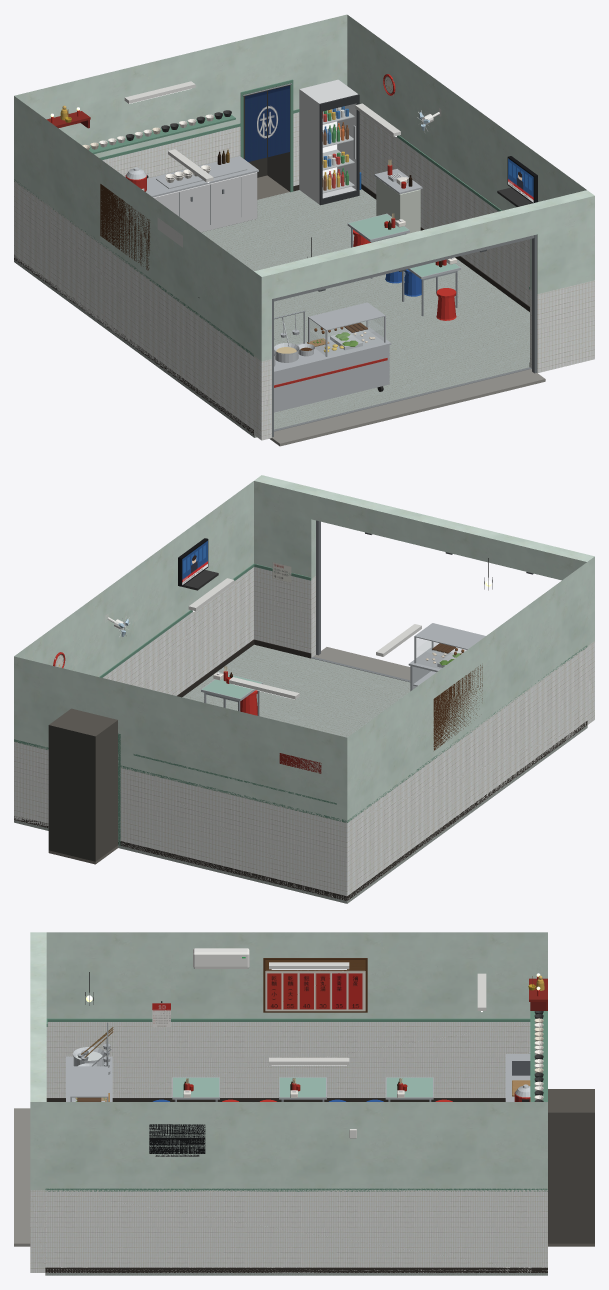
Rendered from wz_lin_interior.glb.
3 renders of one model, top to bottom at view 1: azimuth 30°, elevation 25°; view 2: azimuth 150°, elevation 25°; view 3: azimuth 270°, elevation 25°, orthographic. The views are drawn at different scales.
Visible parts, largest first — view 1: wz_lin_floorm, WALL_W_wall, WALL_N_wall, WALL_W_wain, wz_lin_props, WALL_S_wall, WALL_E_wall, WALL_E_wain, wz_lin_steelparts, wz_lin_metal, WALL_S_wain, WALL_S_trim (+9 smaller); view 2: WALL_N_wall, WALL_N_wain, WALL_W_wall, WALL_W_wain, WALL_S_wall, WALL_E_wall, wz_lin_floorm, WALL_N_passage, WALL_E_wain, WALL_S_wain, WALL_W_trim, WALL_N_trim (+8 smaller); view 3: WALL_E_wall, WALL_E_wain, WALL_W_wall, WALL_W_wain, WALL_N_passage, WALL_E_trim, wz_lin_props, WALL_W_trim, WALL_W_menu, WALL_S_wall, wz_lin_metal, WALL_S_trim (+5 smaller).
Boxes of the visible parts, left/top/right/bottom form: wz_lin_floorm: left=14, top=189, right=529, bottom=437; WALL_W_wall: left=14, top=96, right=254, bottom=355; WALL_N_wall: left=14, top=14, right=347, bottom=157; WALL_W_wain: left=14, top=180, right=253, bottom=433; wz_lin_props: left=124, top=79, right=459, bottom=391; WALL_S_wall: left=254, top=190, right=594, bottom=361; WALL_E_wall: left=347, top=15, right=586, bottom=210; WALL_E_wain: left=359, top=112, right=529, bottom=306; wz_lin_steelparts: left=146, top=156, right=422, bottom=412; wz_lin_metal: left=156, top=94, right=460, bottom=366; WALL_S_wain: left=254, top=280, right=594, bottom=440; WALL_S_trim: left=253, top=286, right=545, bottom=446; WALL_N_wall: left=14, top=656, right=347, bottom=821; WALL_N_wain: left=14, top=741, right=347, bottom=900; WALL_W_wall: left=347, top=562, right=587, bottom=820; WALL_W_wain: left=347, top=646, right=587, bottom=898; WALL_S_wall: left=254, top=475, right=594, bottom=645; WALL_E_wall: left=14, top=481, right=253, bottom=676; wz_lin_floorm: left=14, top=644, right=587, bottom=903; WALL_N_passage: left=48, top=708, right=120, bottom=864; WALL_E_wain: left=103, top=567, right=253, bottom=695; WALL_S_wain: left=254, top=567, right=594, bottom=724; WALL_W_trim: left=346, top=646, right=587, bottom=900; WALL_N_trim: left=14, top=739, right=347, bottom=900; WALL_E_wall: left=45, top=1102, right=547, bottom=1190; WALL_E_wain: left=45, top=1190, right=547, bottom=1272; WALL_W_wall: left=46, top=932, right=547, bottom=1018; WALL_W_wain: left=46, top=1022, right=530, bottom=1097; WALL_N_passage: left=547, top=1089, right=594, bottom=1246; WALL_E_trim: left=45, top=1124, right=547, bottom=1272; wz_lin_props: left=75, top=962, right=530, bottom=1101; WALL_W_trim: left=47, top=948, right=530, bottom=1101; WALL_W_menu: left=265, top=960, right=365, bottom=1011; WALL_S_wall: left=30, top=932, right=46, bottom=1190; wz_lin_metal: left=70, top=992, right=530, bottom=1101; WALL_S_trim: left=14, top=1018, right=47, bottom=1246.
Bounding box in the file's own units: 6.43 × 3.05 × 9.25.
18 materials, 10 textured.
